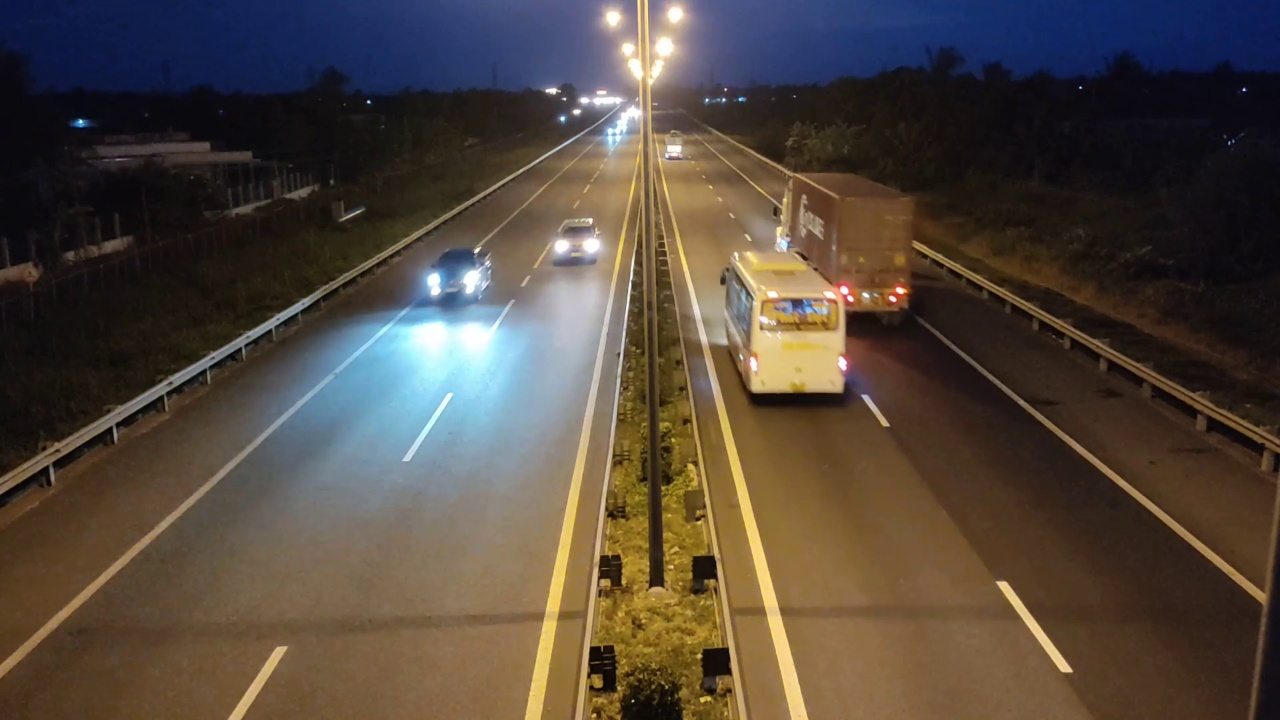bus: (721, 248, 851, 403)
car: (425, 247, 493, 308), (551, 216, 602, 265)
truck: (775, 171, 915, 327)
